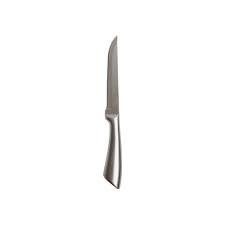Knife: (102, 34, 121, 188)
